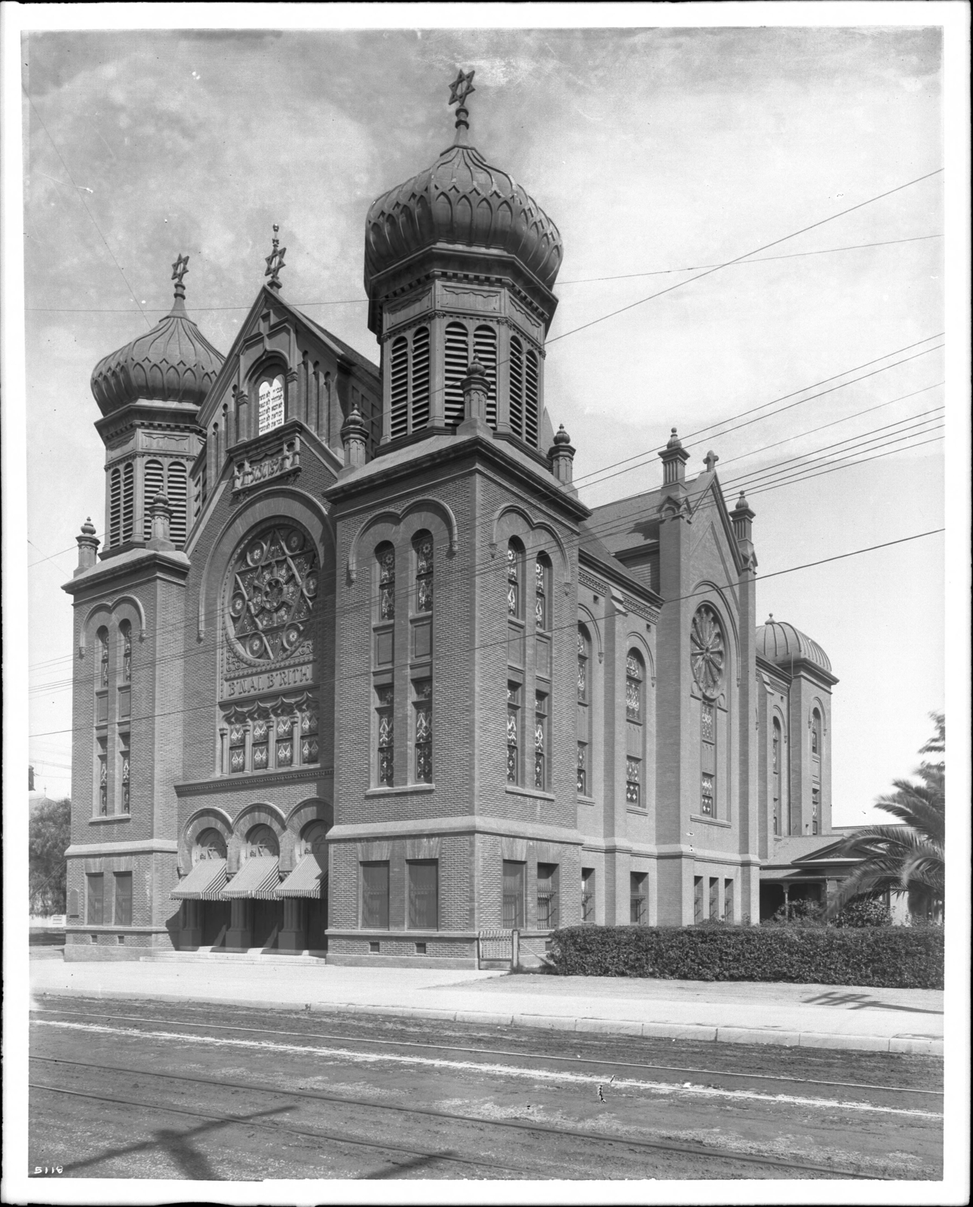fachada: (79, 87, 841, 977)
